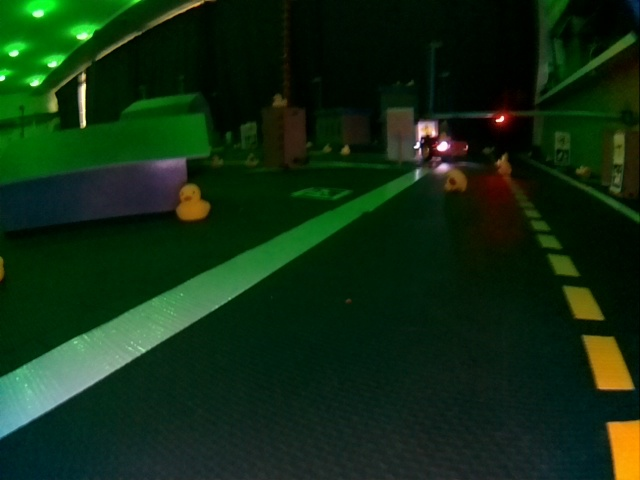Duckie: (176, 184, 210, 221), (444, 168, 464, 192), (494, 157, 513, 176), (575, 165, 591, 176)
QR code: (294, 186, 352, 199), (555, 150, 569, 162)
Traffic light: (494, 110, 507, 124)
